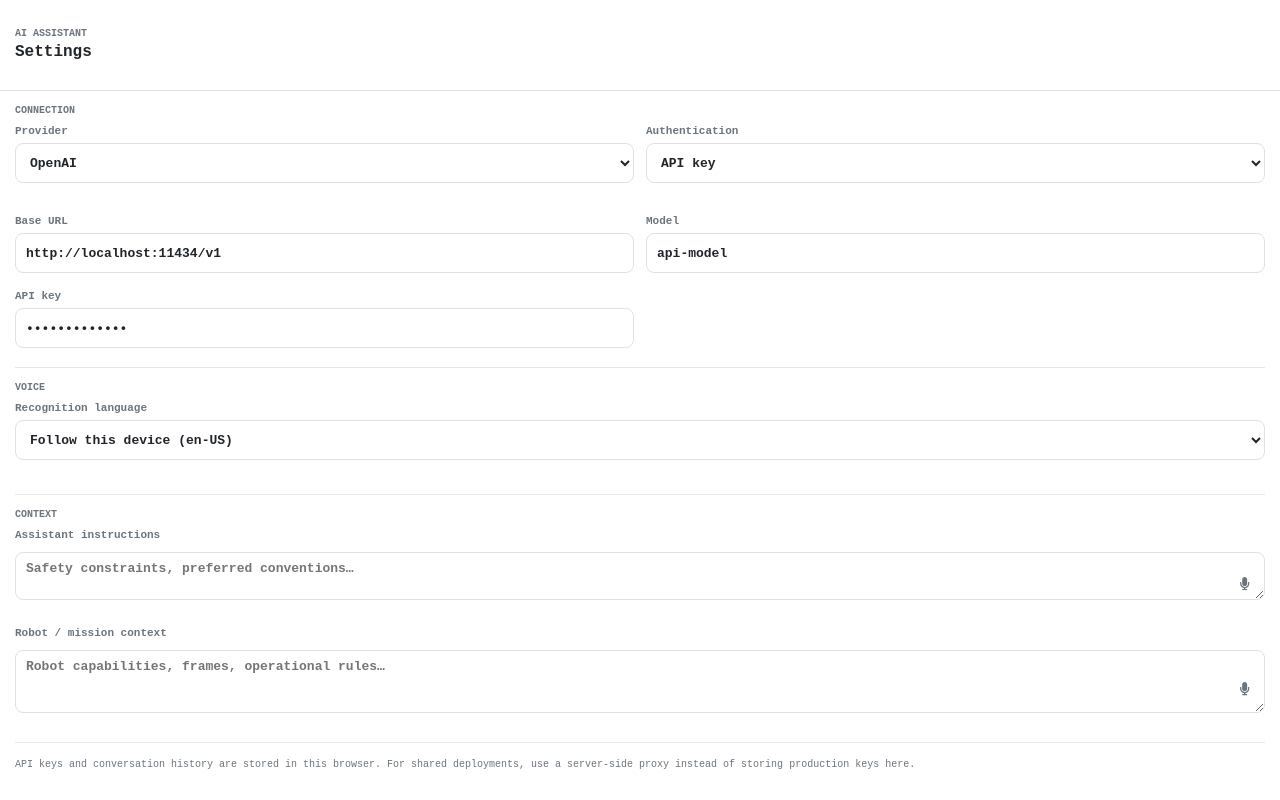
Test: provider authentication settings › offers thinking effort for a supported model and resets it on model change
The width and height of the screenshot is (1280, 800).
Replace the text in the field labelled "Model" with "gpt-6.1-sol" at (956, 253), box [646, 233, 1265, 273]
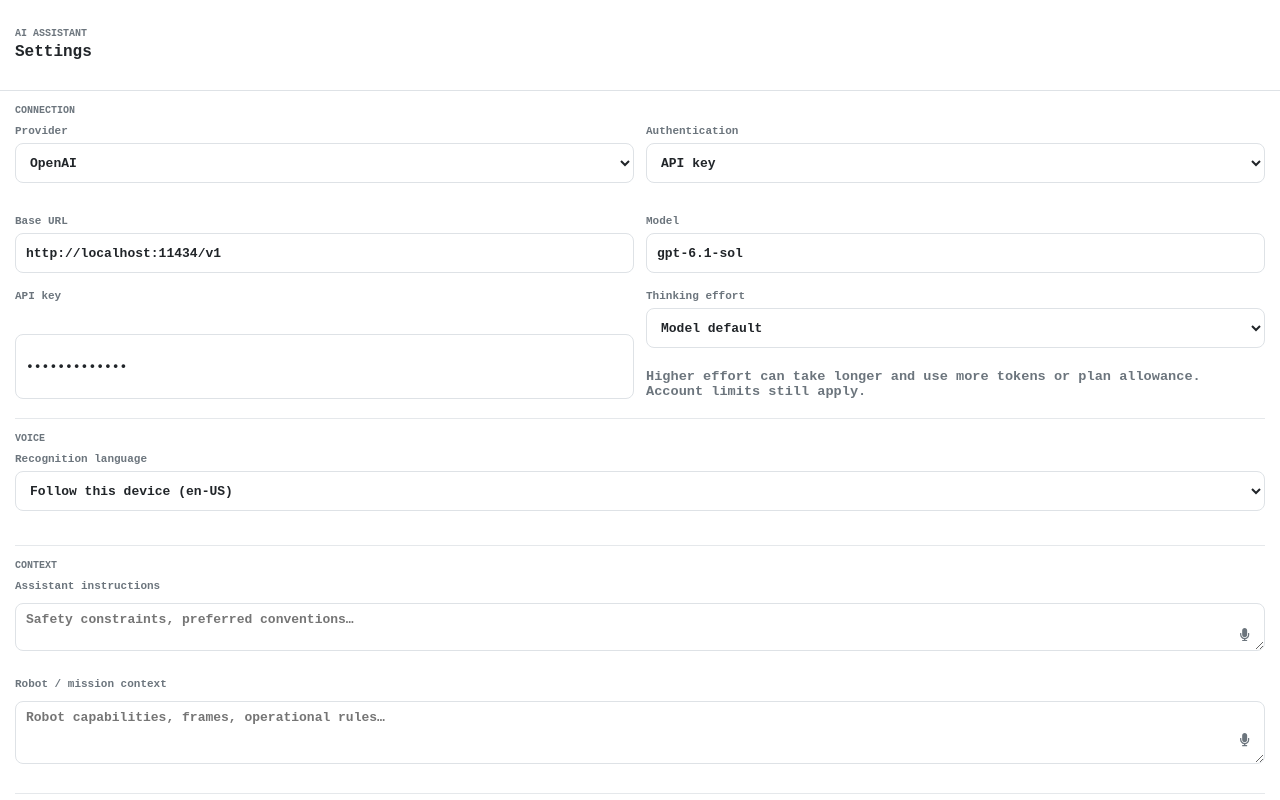
Select "High" in the dropdown labelled "Thinking effort" at (956, 328), box [646, 308, 1265, 348]
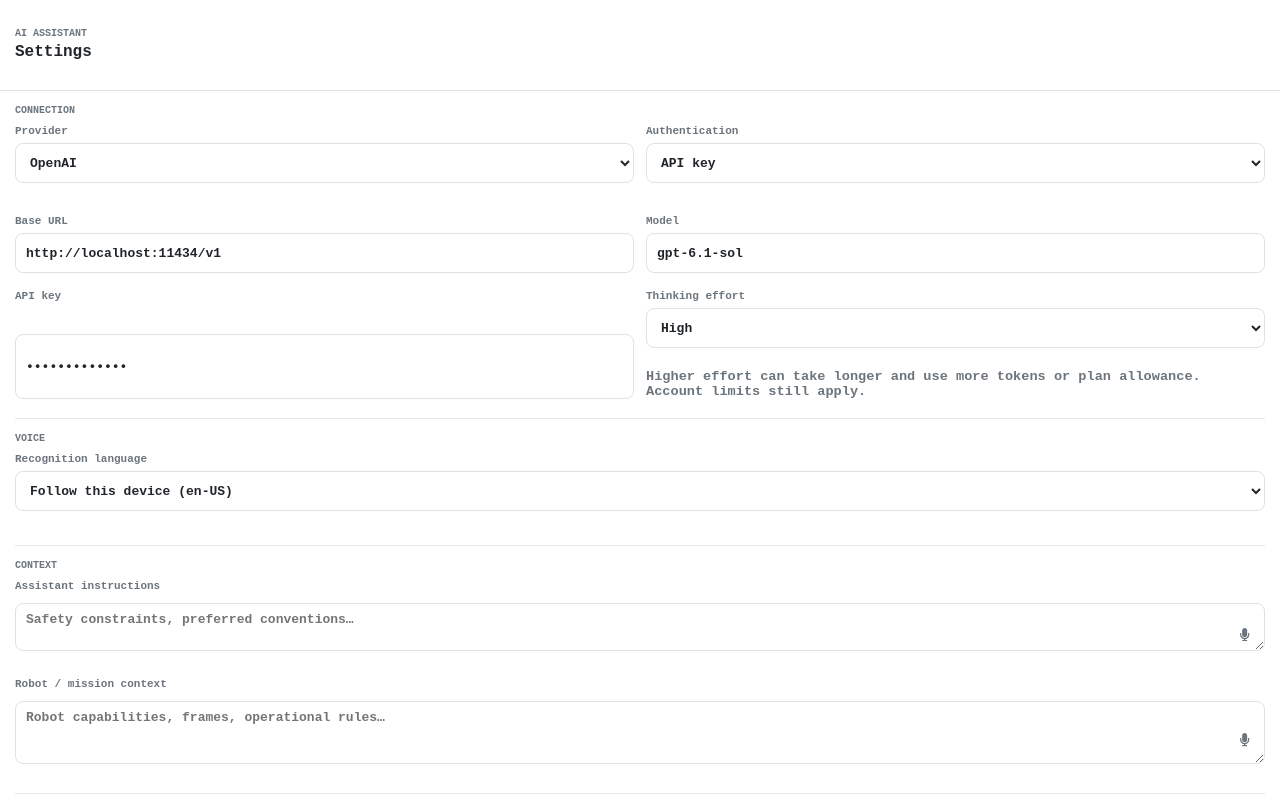
Replace the text in the field labelled "Model" with "gpt-4.1" at (956, 253), box [646, 233, 1265, 273]
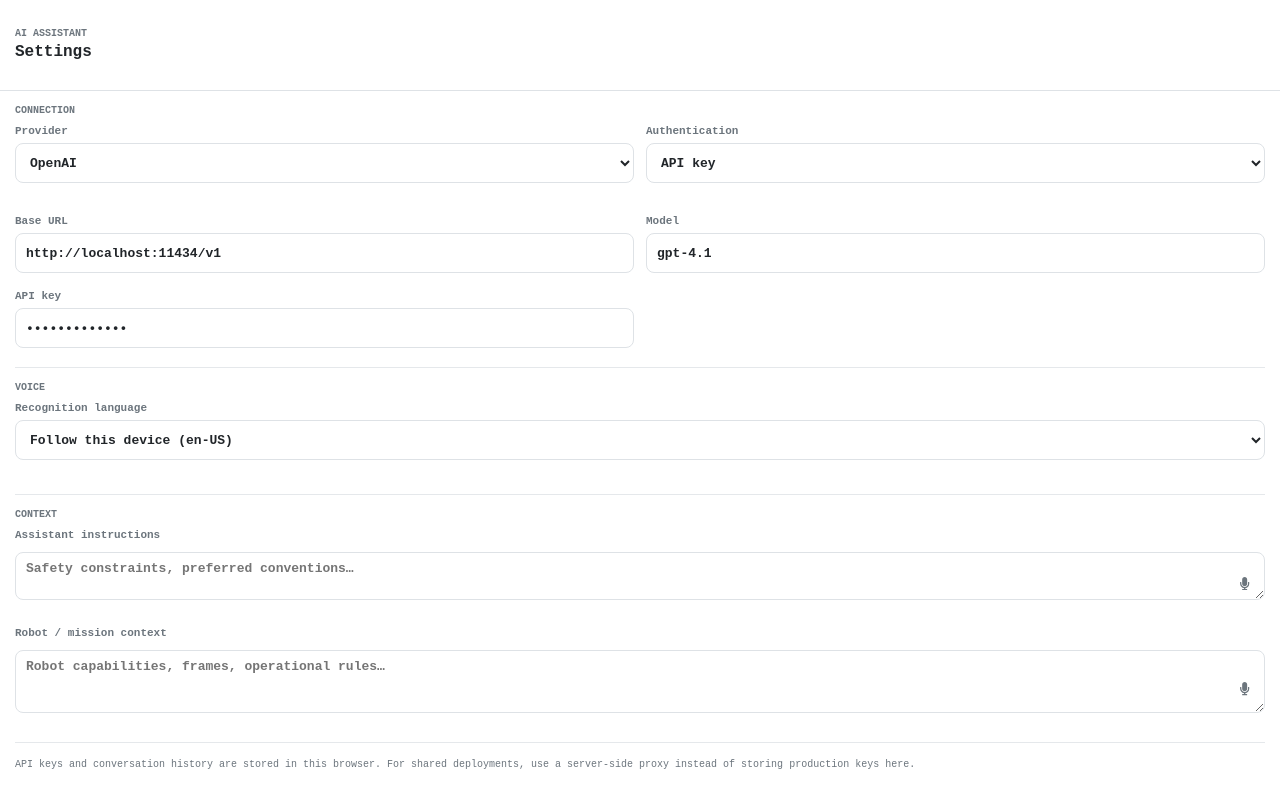
expect the label "Thinking effort" is gone: met
